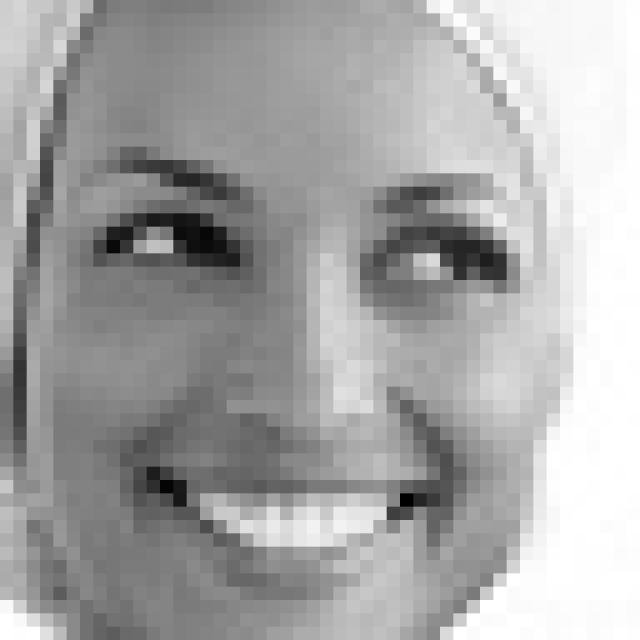happy: (90, 144, 532, 608)
